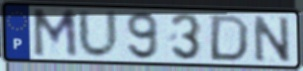3: (165, 11, 205, 62)
9: (124, 10, 160, 61)
D: (206, 13, 251, 63)
M: (30, 8, 80, 61)
N: (250, 13, 293, 64)
U: (75, 7, 122, 61)
